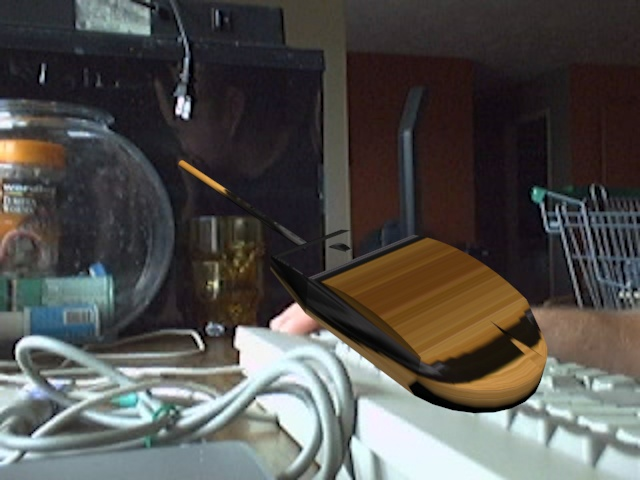mouse: (176, 160, 560, 416)
